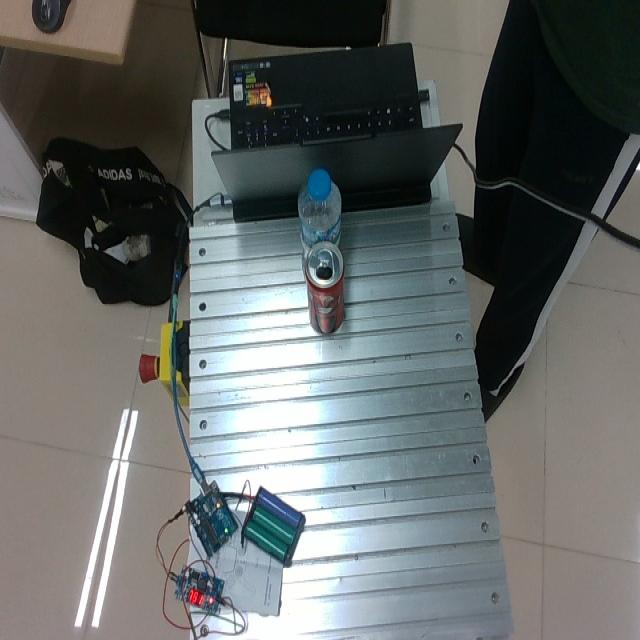coca: (304, 240, 345, 335)
lavie: (297, 167, 343, 268)
